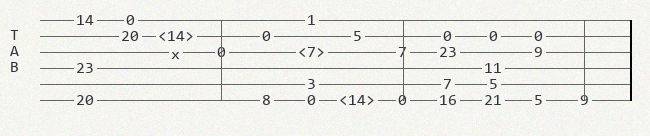0: (126, 13, 139, 27), (217, 45, 230, 59), (262, 29, 275, 43), (307, 93, 320, 107), (398, 93, 411, 107), (443, 29, 456, 43), (489, 29, 502, 43), (534, 29, 547, 43)
1: (307, 13, 320, 27)
11: (484, 61, 506, 75)
14: (76, 13, 98, 27)
16: (439, 93, 461, 107)
20: (76, 93, 98, 107), (121, 29, 143, 43)
21: (484, 93, 506, 107)
23: (76, 61, 98, 75), (439, 45, 461, 59)
3: (307, 77, 320, 91)
5: (353, 29, 366, 43), (489, 77, 502, 91), (534, 93, 547, 107)
7: (398, 45, 411, 59), (443, 77, 456, 91)
8: (262, 93, 275, 107)
9: (534, 45, 547, 59), (580, 93, 593, 107)
harmonic: (158, 29, 198, 43), (339, 93, 379, 107), (298, 45, 329, 59)
x: (171, 47, 184, 58)
